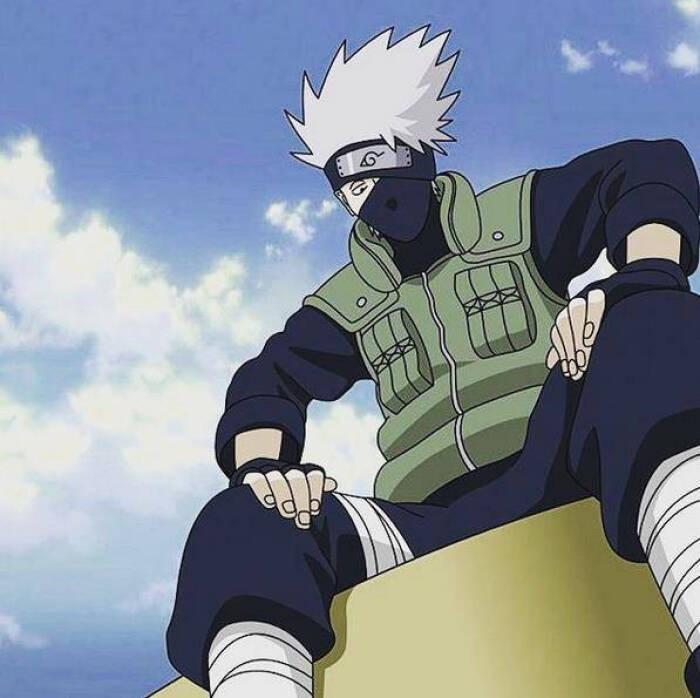kakashi: (322, 137, 442, 248)
